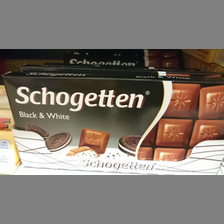chocolate: (3, 71, 224, 164)
